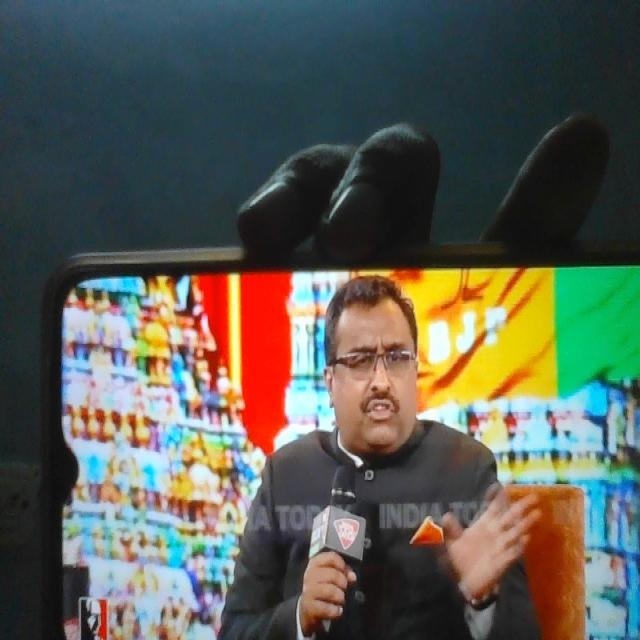fake: (320, 244, 437, 465)
